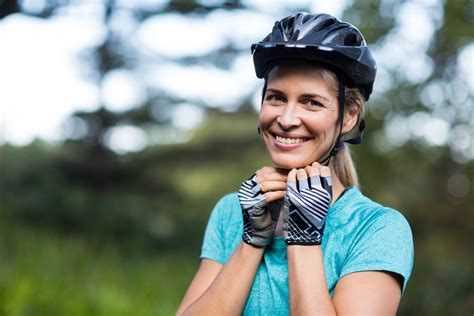com_capacete_bicicleta: (249, 11, 378, 170)
